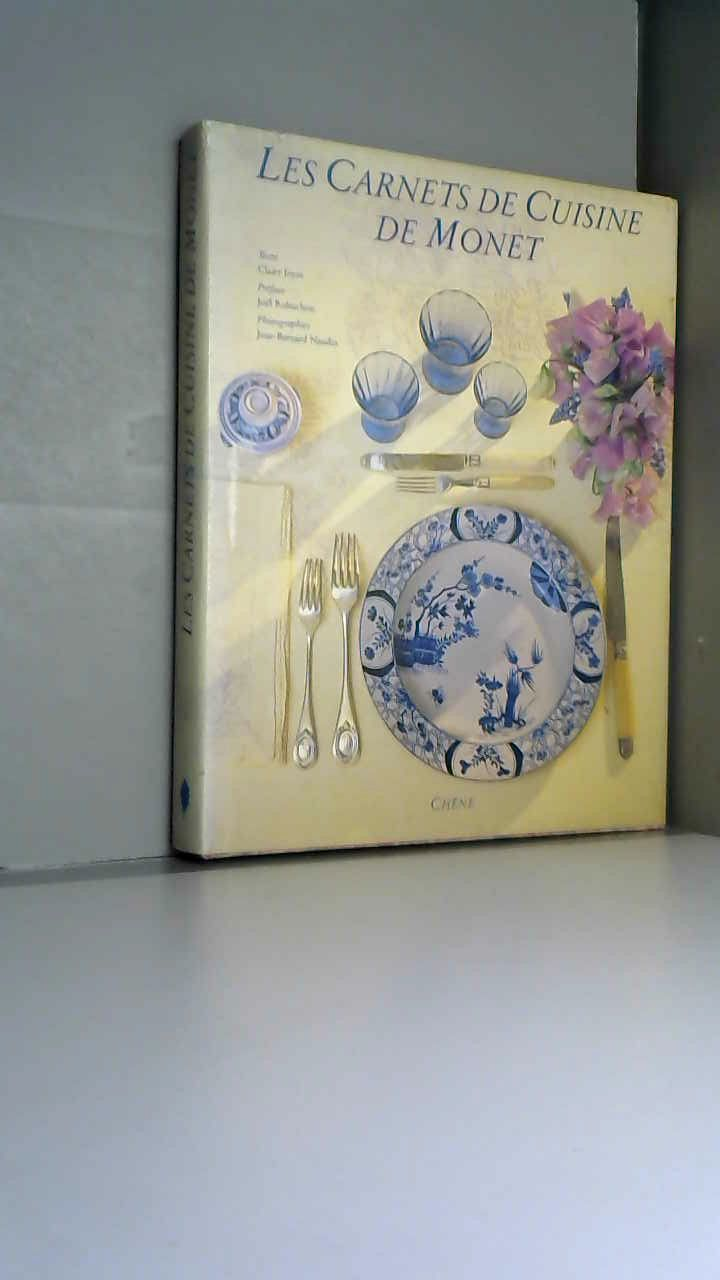book: (140, 100, 718, 911)
